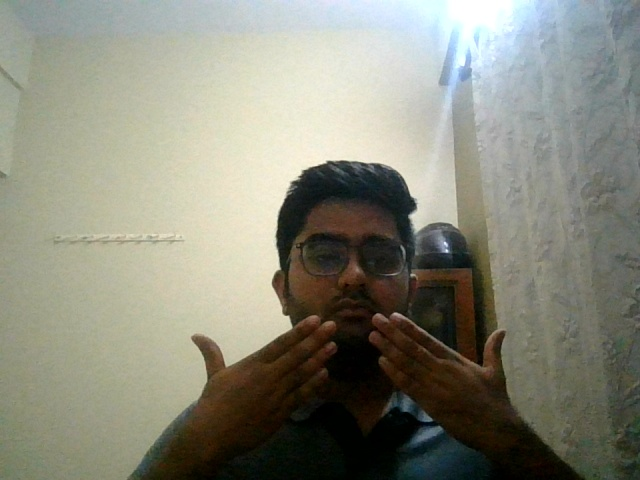Thank You: (184, 309, 530, 473)
